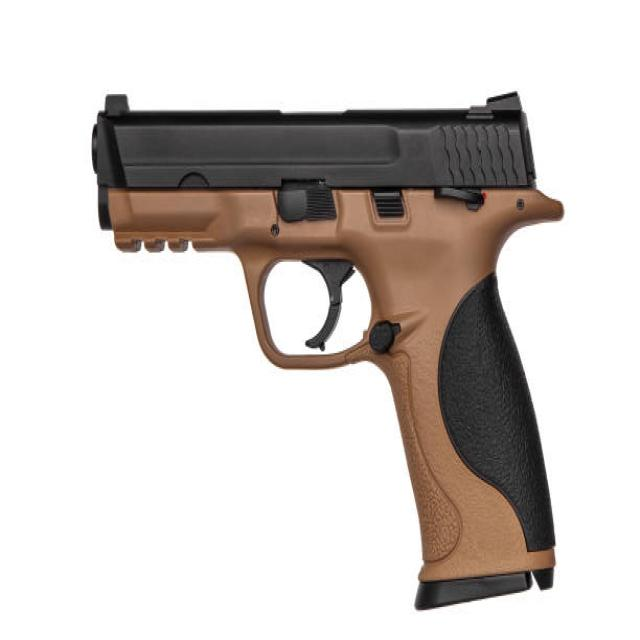pistol: (88, 85, 569, 627)
